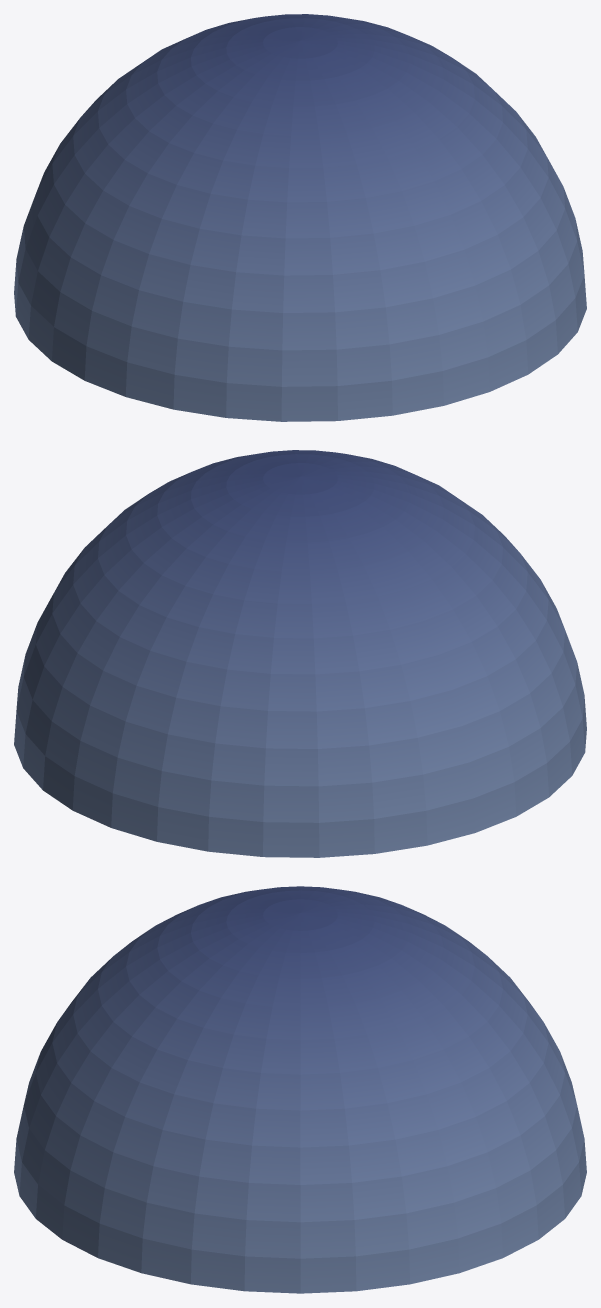
Rendered from sky_dome.glb.
3 views of the same model, one above another, from view 1: azimuth 30°, elevation 25°; view 2: azimuth 150°, elevation 25°; view 3: azimuth 270°, elevation 25° (orthographic).
Parts seen in each view (by area): view 1: sky_dome; view 2: sky_dome; view 3: sky_dome.
Part boxes in pixels (left/top/right/bottom): sky_dome: left=14, top=14, right=586, bottom=421; sky_dome: left=14, top=450, right=586, bottom=857; sky_dome: left=14, top=886, right=586, bottom=1293.
Bounding box in the file's own units: 200 × 100 × 200.
